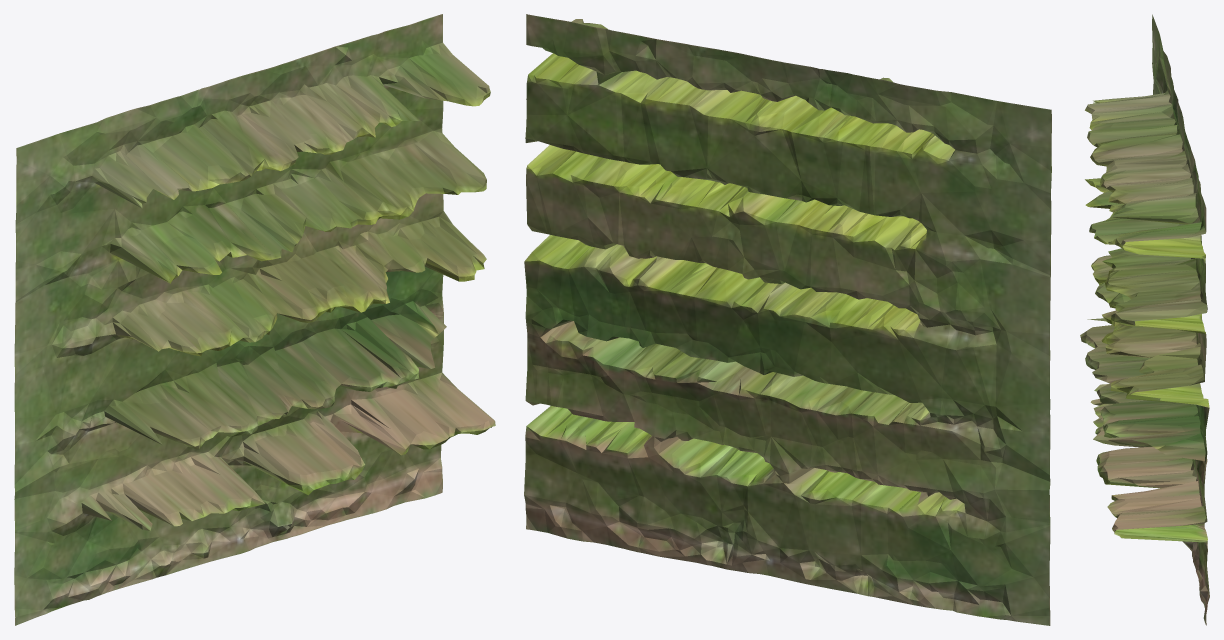
The model's file is map_220_90.obj.
3 renders of one model, left to right at view 1: azimuth 30°, elevation 25°; view 2: azimuth 150°, elevation 25°; view 3: azimuth 270°, elevation 25°, orthographic. The views are drawn at different scales.
Parts seen in each view (by area): view 1: grp1; view 2: grp1; view 3: grp1.
Part boxes in pixels (x1,y1,x2,y2): grp1: (14, 14, 495, 625); grp1: (524, 14, 1051, 625); grp1: (1080, 14, 1209, 625).
Size of the model in its own units: 10 by 10 by 2.82.
Materials: 1 (1 with a texture image).
